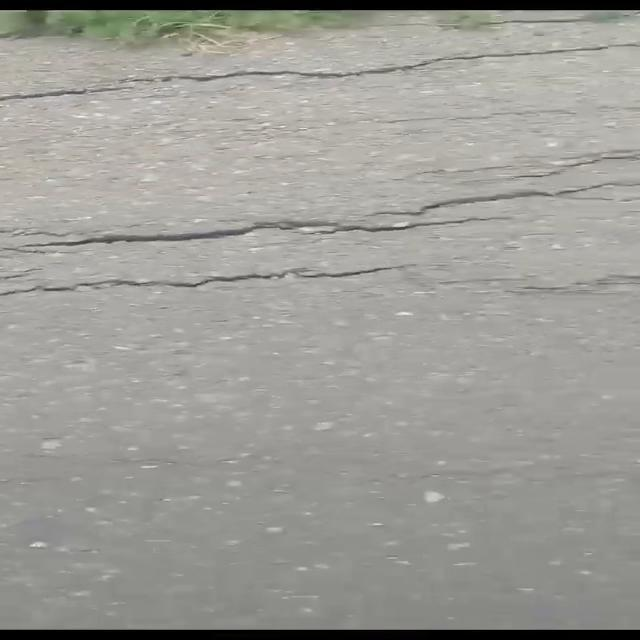Melintang: (0, 143, 640, 263), (0, 35, 640, 123), (0, 253, 420, 319)
